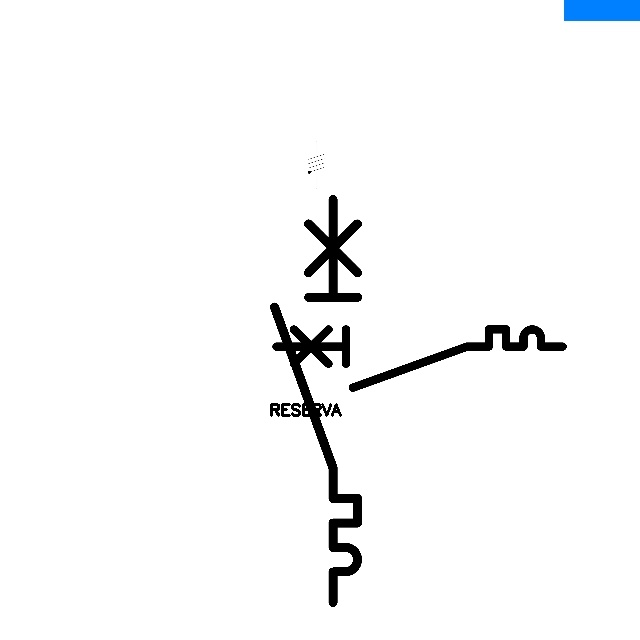interruptor_termomagnetico: (264, 189, 368, 613), (269, 322, 570, 395)
